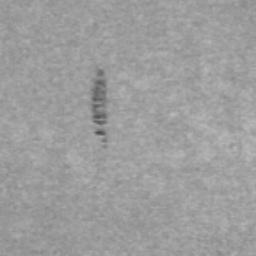Secondary rust skin: (91, 69, 108, 148)
